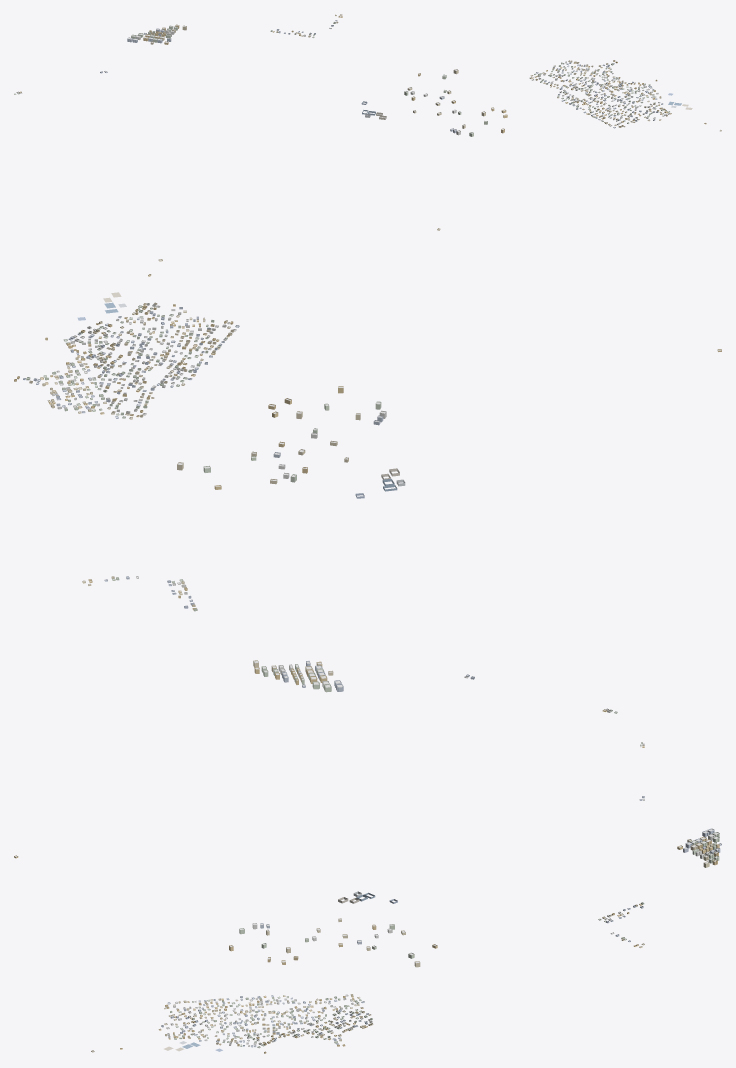
The picture shows the model from 3 angles, top to bottom: view 1: azimuth 30°, elevation 25°; view 2: azimuth 150°, elevation 25°; view 3: azimuth 270°, elevation 25°; orthographic projection. The views are drawn at different scales.
Visible parts, largest first — view 1: house, apartment, roof_zinc; view 2: house, apartment, roof_zinc; view 3: house, apartment, roof_zinc.
Part boxes in pixels (x1,y1,x2,y2): house: (14,14,721,131); apartment: (127,24,507,230); roof_zinc: (14,15,721,130); house: (14,259,617,713); apartment: (177,349,721,692); roof_zinc: (15,260,617,713); house: (91,742,644,1053); apartment: (14,828,721,967); roof_zinc: (91,744,644,1052).
Bounding box in the file's own units: 1.15e+08 × 727795 × 1.1e+08.
